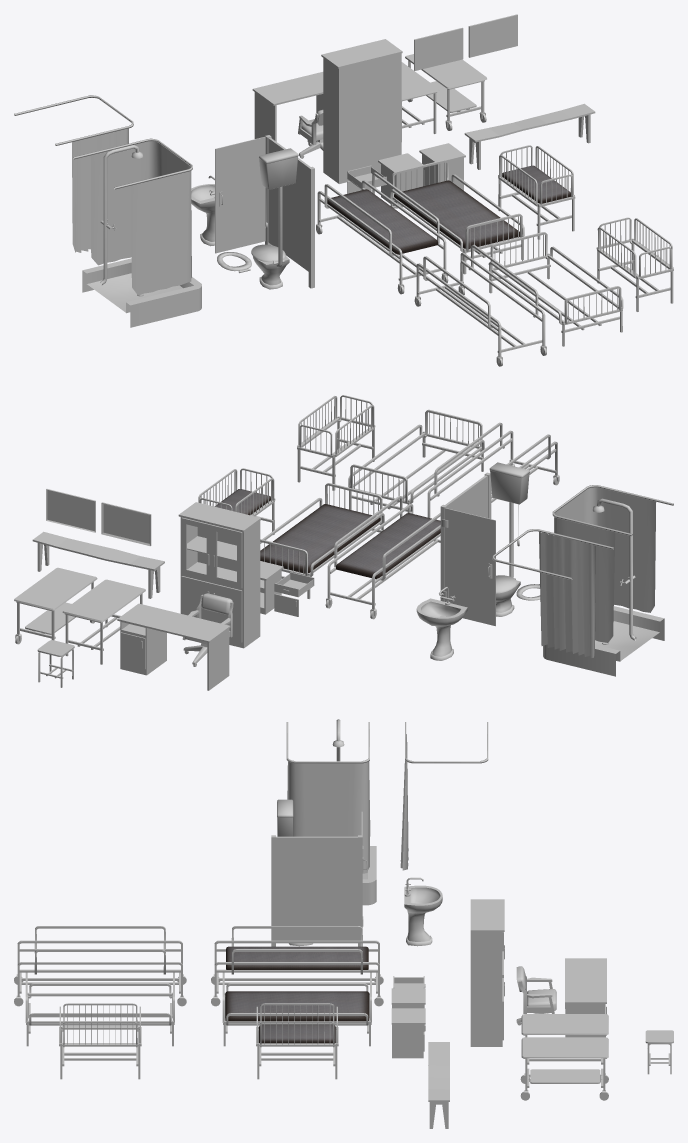
Rendered from hospital_furniture.fbx.
3 renders of one model, top to bottom at view 1: azimuth 30°, elevation 25°; view 2: azimuth 150°, elevation 25°; view 3: azimuth 270°, elevation 25°, orthographic.
Parts seen in each view (by area): view 1: showerc_urtain, locker_A, bed_B, bed_A, toiletBox_door, shower, toiletBoxWall, bed_B_empty, bed_A_empty, bed_C, showerc_urtain_B, bed_C_empty (+13 smaller); view 2: showerc_urtain, showerc_urtain_B, locker_A, bed_B, bed_A, toiletBox_door, desk_A, shower, bed_B_empty, desk_C, bed_C_empty, desk_B (+19 smaller); view 3: toiletBoxWall, showerc_urtain, bed_A, bed_B, locker_A, bed_A_empty, desk_C, bed_C, bed_B_empty, bed_C_empty, desk_A, desk_B (+9 smaller).
Boxes of the visible parts, bbox=[...] form: showerc_urtain: bbox=[73, 138, 192, 295]; locker_A: bbox=[321, 39, 402, 183]; bed_B: bbox=[390, 159, 524, 274]; bed_A: bbox=[316, 172, 448, 294]; toiletBox_door: bbox=[215, 137, 265, 253]; shower: bbox=[82, 145, 201, 327]; toiletBoxWall: bbox=[265, 135, 314, 288]; bed_B_empty: bbox=[488, 232, 623, 346]; bed_A_empty: bbox=[414, 244, 546, 366]; bed_C: bbox=[498, 145, 575, 239]; showerc_urtain_B: bbox=[14, 95, 133, 252]; bed_C_empty: bbox=[596, 217, 673, 311]; showerc_urtain: bbox=[552, 485, 673, 642]; showerc_urtain_B: bbox=[492, 529, 613, 657]; locker_A: bbox=[178, 502, 260, 648]; bed_B: bbox=[260, 483, 384, 598]; bed_A: bbox=[325, 496, 440, 619]; toiletBox_door: bbox=[444, 508, 495, 626]; desk_A: bbox=[117, 603, 230, 690]; shower: bbox=[543, 498, 664, 676]; bed_B_empty: bbox=[348, 409, 484, 512]; desk_C: bbox=[14, 567, 97, 644]; bed_C_empty: bbox=[297, 395, 375, 490]; desk_B: bbox=[62, 579, 145, 664]; toiletBoxWall: bbox=[271, 835, 363, 946]; showerc_urtain: bbox=[286, 722, 370, 873]; bed_A: bbox=[211, 926, 383, 1006]; bed_B: bbox=[222, 972, 371, 1046]; locker_A: bbox=[470, 899, 504, 1046]; bed_A_empty: bbox=[14, 926, 186, 1006]; desk_C: bbox=[520, 1037, 608, 1100]; bed_C: bbox=[256, 1003, 338, 1079]; bed_B_empty: bbox=[25, 972, 174, 1046]; bed_C_empty: bbox=[59, 1003, 141, 1079]; desk_A: bbox=[565, 958, 606, 1037]; desk_B: bbox=[521, 1014, 608, 1064].
Size of the model in its own units: 80.59 by 21.54 by 83.76.
